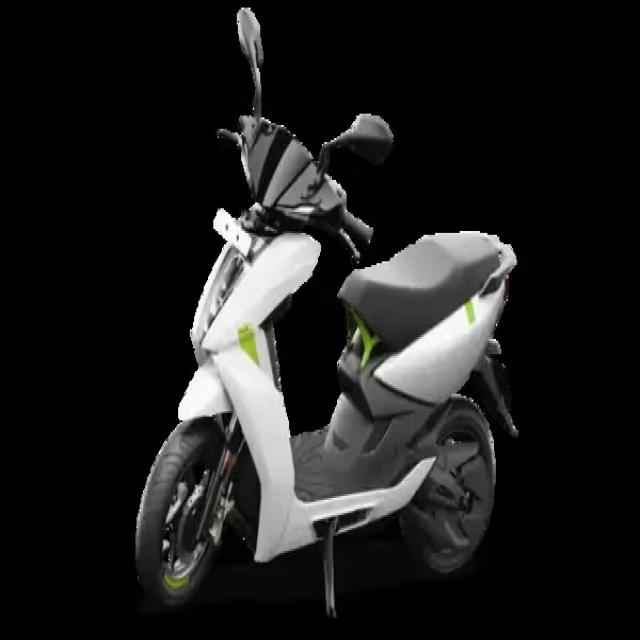objects: (127, 0, 510, 640)
